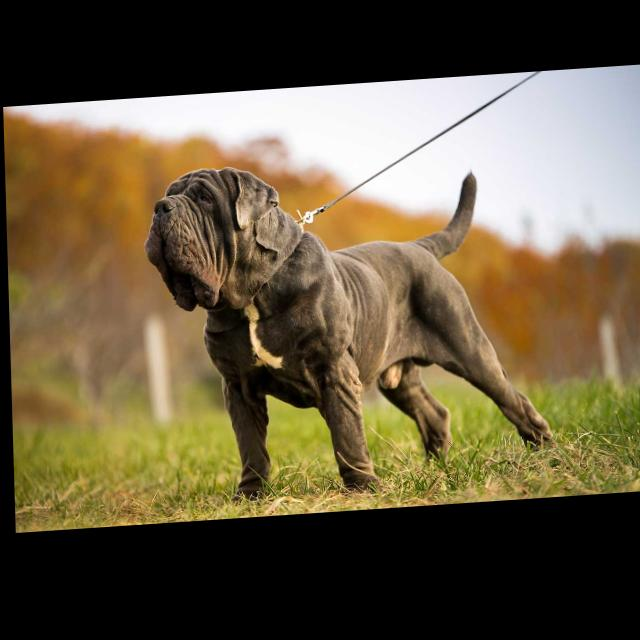mastino_napoletano: (142, 153, 553, 514)
